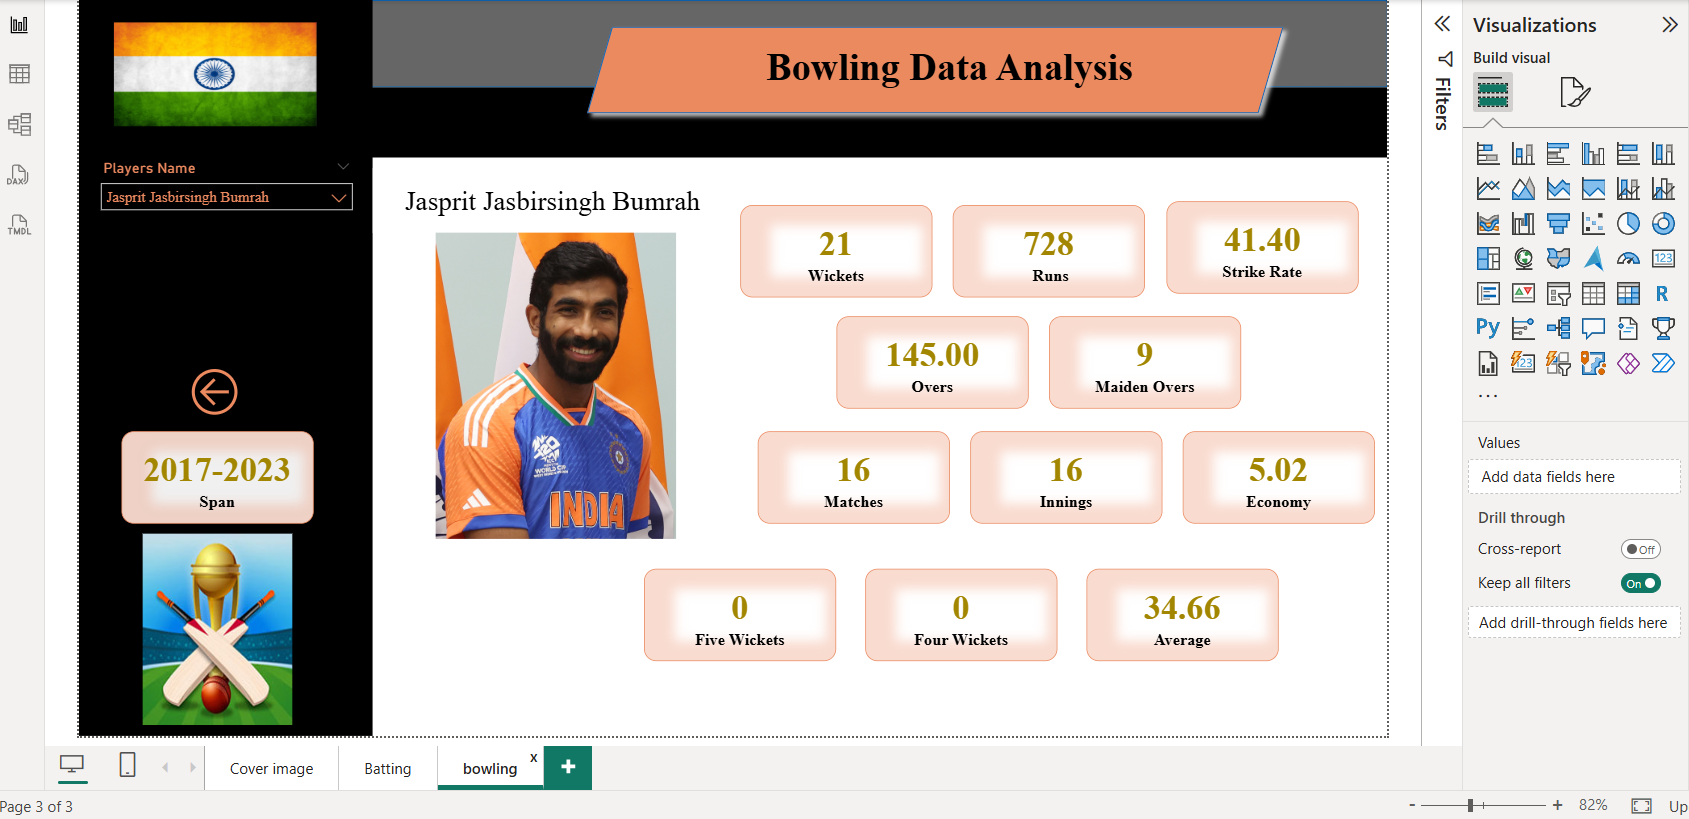

What the dashboard file says about the page in this screenshot:
{"tool":"powerbi","page":{"name":"bowling","canvas":[1280,720],"ordinal":2},"visuals":[{"type":"shape","box":[0,0,1280.3,85.6],"z":0},{"type":"shape","box":[0,85.6,1280.3,68.5],"z":1000},{"type":"shape","box":[0,0,287.4,94.2],"z":2000},{"type":"shape","box":[487.9,17.1,699.5,102.7],"z":3000},{"type":"image","box":[29.3,17.1,207.9,111.3],"z":4000},{"type":"textbox","box":[0,145.3,287.4,574.7],"z":5000},{"type":"card","fields":{"Values":["Min(Sheet2.Merged_span)"]},"box":[41.6,421.9,188.3,90.5],"z":6000},{"type":"card","fields":{"Values":["Sum(Sheet2.Ave)"]},"box":[985.6,556.4,188.3,90.5],"z":7000},{"type":"card","fields":{"Values":["Sum(Sheet2.4)"]},"box":[769.2,556.4,188.3,90.5],"z":8000},{"type":"card","fields":{"Values":["Sum(Sheet2.5)"]},"box":[552.7,556.4,188.3,90.5],"z":9000},{"type":"card","fields":{"Values":["Sum(Sheet2.Econ)"]},"box":[1079.8,421.9,188.3,90.5],"z":10000},{"type":"card","fields":{"Values":["Sum(Sheet2.Inns)"]},"box":[871.9,421.9,188.3,90.5],"z":11000},{"type":"card","fields":{"Values":["Sum(Sheet2.Mat)"]},"box":[664,421.9,188.3,90.5],"z":12000},{"type":"card","fields":{"Values":["Sum(Sheet2.Overs)"]},"box":[741,309.4,188.3,90.5],"z":13000},{"type":"card","fields":{"Values":["Sum(Sheet2.Runs)"]},"box":[854.9,200.5,188.3,90.5],"z":14000},{"type":"card","fields":{"Values":["Sum(Sheet2.Mdns)"]},"box":[948.9,309.4,188.3,90.5],"z":15000},{"type":"card","fields":{"Values":["Sum(Sheet2.SR)"]},"box":[1063.4,196.9,188.3,90.5],"z":16000},{"type":"card","fields":{"Values":["Sum(Sheet2.Wkts)"]},"box":[646.4,200.5,188.3,90.5],"z":17000},{"type":"actionButton","box":[103.9,354.6,81.9,57.5],"z":18000},{"type":"image","box":[57.5,517.3,156.5,196.9],"z":19000},{"type":"slicer","fields":{"Values":["Nametable_batting.Players Name"]},"box":[11,150.4,266.6,77],"z":20000},{"type":"textbox","box":[576,39.1,551.5,57.5],"z":21000},{"type":"tableEx","fields":{"Values":["battingimageurl.imageurlbatting"]},"box":[305.7,192,325.3,344.8],"z":22000},{"type":"card","fields":{"Values":["Min(Nametable_batting.Players Name)"]},"box":[287.4,165.1,352.2,62.4],"z":23000}]}

Visuals, with their boxes on the page's 1280x720 design canvas (x1, y1, x2, y2). These are canvas units, not pixel positions in the 1689x819 screenshot, which may show the page scaled, cropped or inside an application window:
shape: [0, 0, 1280, 86]
shape: [0, 86, 1280, 154]
shape: [0, 0, 287, 94]
shape: [488, 17, 1187, 120]
image: [29, 17, 237, 128]
textbox: [0, 145, 287, 720]
card - Min(Sheet2.Merged_span): [42, 422, 230, 512]
card - Sum(Sheet2.Ave): [986, 556, 1174, 647]
card - Sum(Sheet2.4): [769, 556, 958, 647]
card - Sum(Sheet2.5): [553, 556, 741, 647]
card - Sum(Sheet2.Econ): [1080, 422, 1268, 512]
card - Sum(Sheet2.Inns): [872, 422, 1060, 512]
card - Sum(Sheet2.Mat): [664, 422, 852, 512]
card - Sum(Sheet2.Overs): [741, 309, 929, 400]
card - Sum(Sheet2.Runs): [855, 200, 1043, 291]
card - Sum(Sheet2.Mdns): [949, 309, 1137, 400]
card - Sum(Sheet2.SR): [1063, 197, 1252, 287]
card - Sum(Sheet2.Wkts): [646, 200, 835, 291]
actionButton: [104, 355, 186, 412]
image: [58, 517, 214, 714]
slicer - Nametable_batting.Players Name: [11, 150, 278, 227]
textbox: [576, 39, 1128, 97]
tableEx - battingimageurl.imageurlbatting: [306, 192, 631, 537]
card - Min(Nametable_batting.Players Name): [287, 165, 640, 228]
